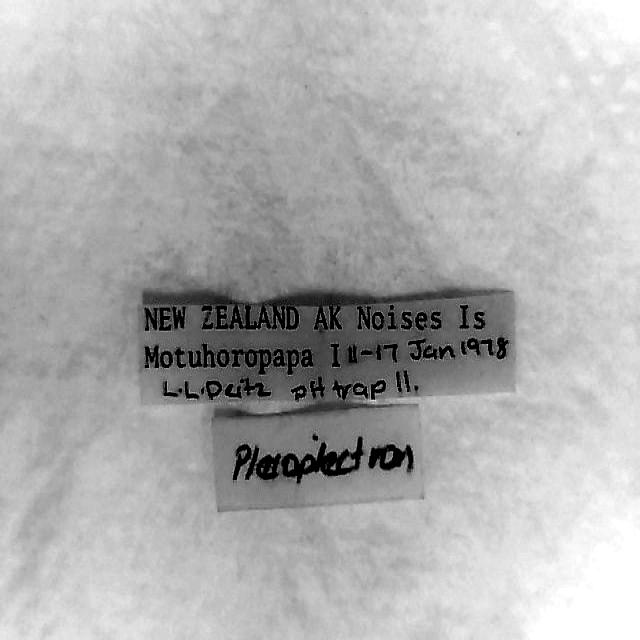hand_label: (212, 405, 422, 509)
mixed_label: (140, 292, 514, 403)
